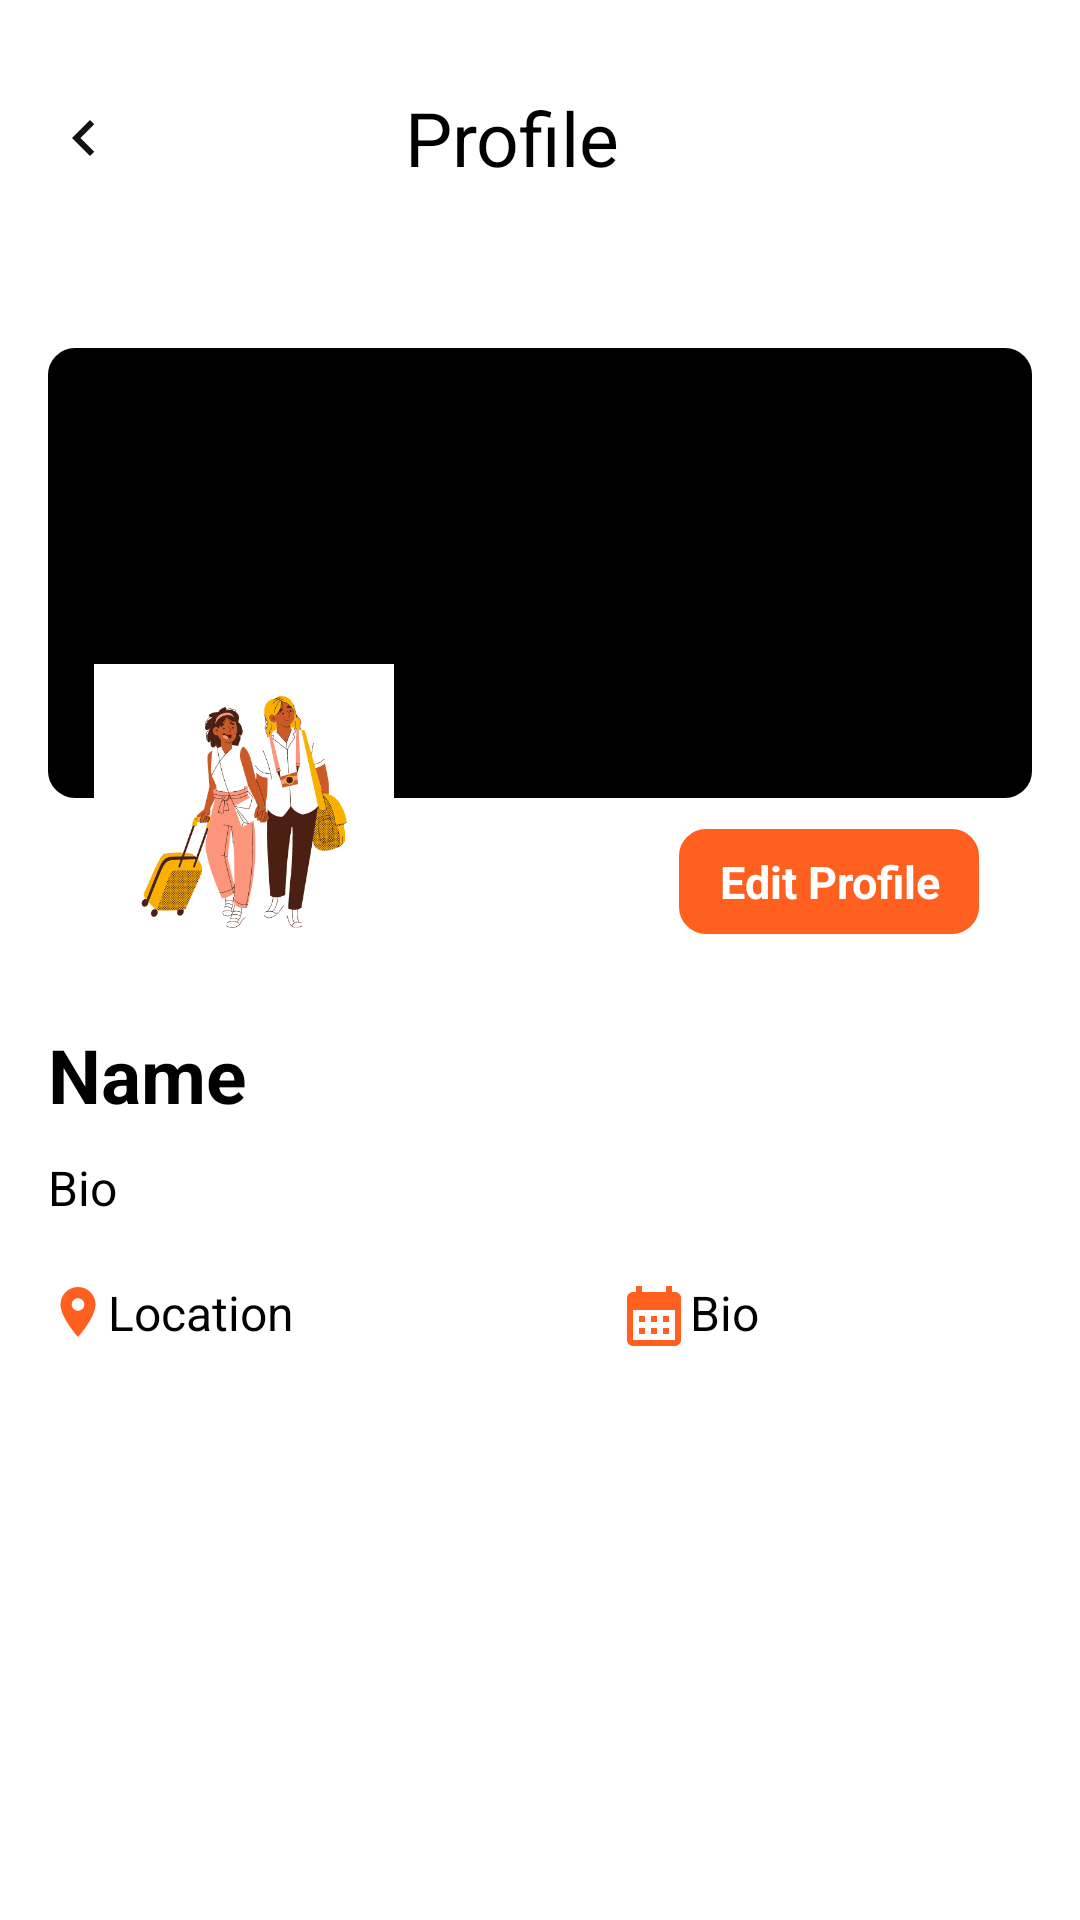

Locate icon controls on the screen. Image size 1080 x 1920, boxes as bbox(x1, y1, x2, y2).
chevron left: bbox(72, 120, 94, 156)
